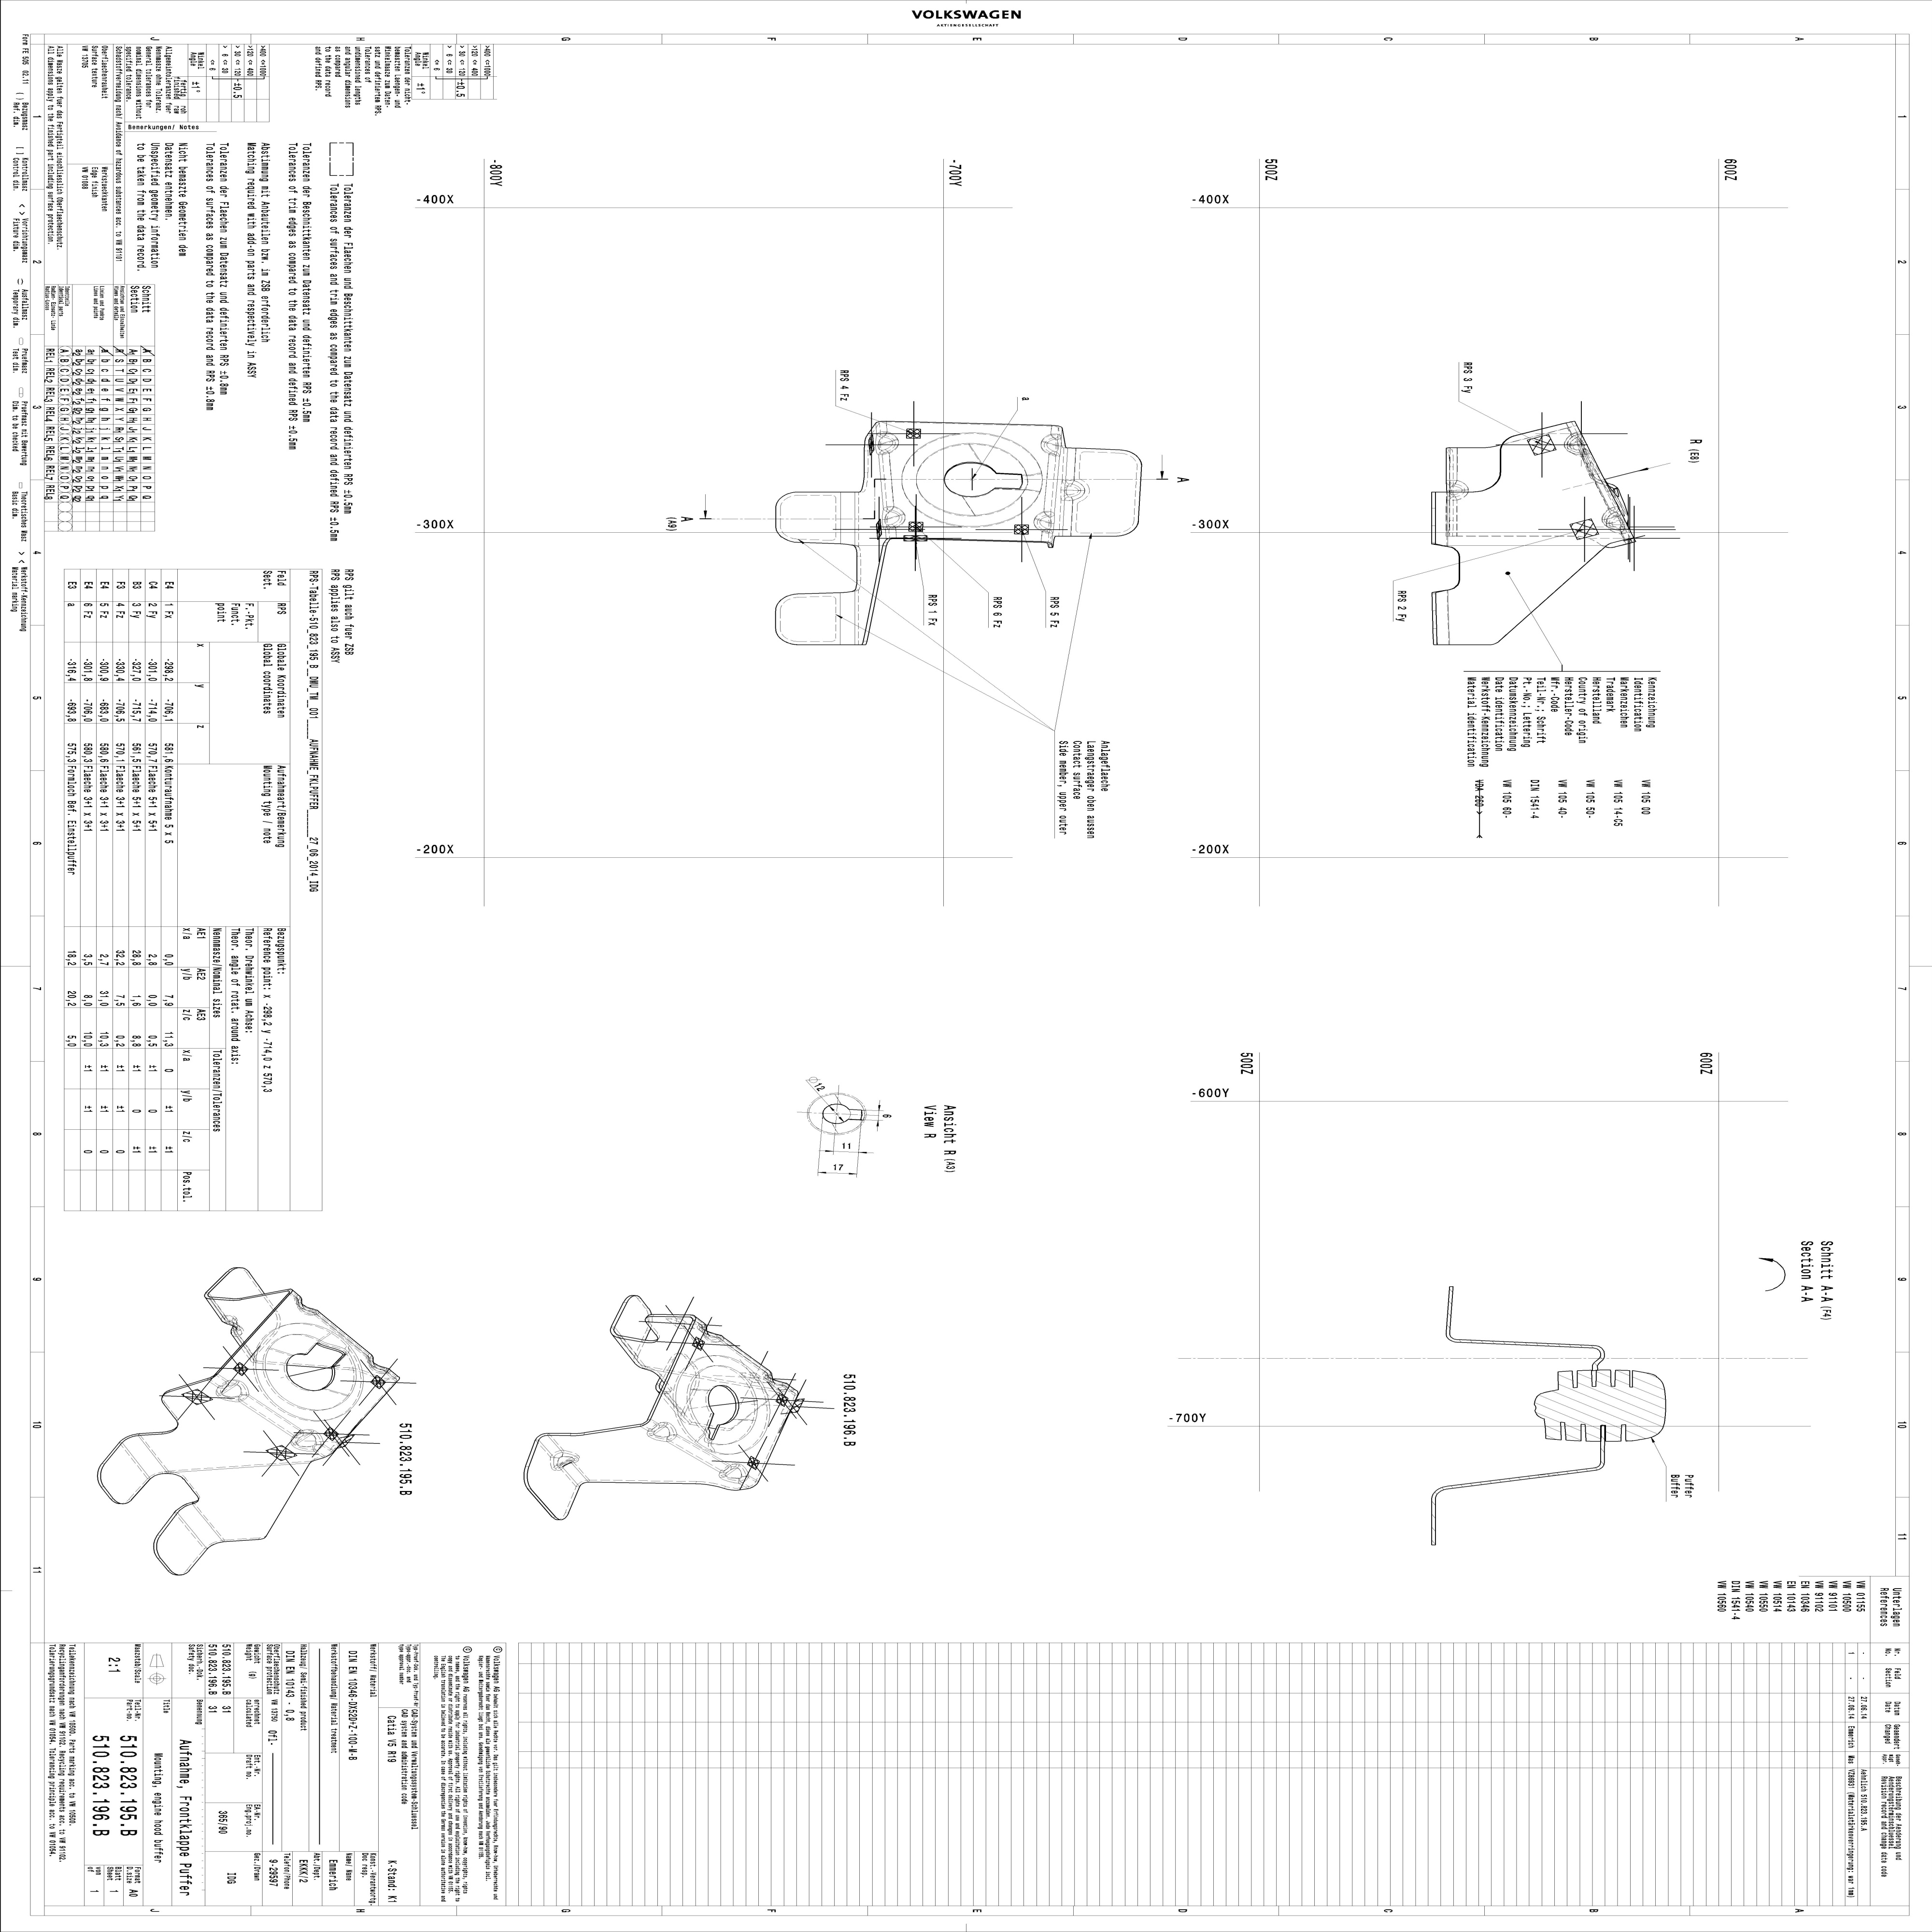BendingEdge: (173, 1499, 225, 1553), (117, 1428, 168, 1483), (672, 1433, 727, 1474), (607, 1322, 646, 1366), (1582, 453, 1614, 506), (725, 1339, 766, 1371), (839, 589, 858, 649), (839, 490, 858, 547), (878, 456, 899, 508), (536, 1431, 564, 1460), (566, 1465, 591, 1491), (1047, 458, 1060, 502), (780, 1380, 803, 1403), (1060, 501, 1074, 533), (1445, 444, 1460, 476), (639, 1415, 660, 1437), (686, 1309, 708, 1329), (1067, 446, 1077, 479), (1430, 593, 1437, 642), (1564, 418, 1582, 437), (1447, 506, 1456, 540), (1619, 529, 1637, 545), (1442, 1329, 1458, 1345), (1431, 1486, 1447, 1502), (1592, 1341, 1606, 1359), (1591, 1460, 1608, 1474), (1433, 494, 1437, 545), (1047, 423, 1063, 433), (743, 1476, 755, 1488), (874, 421, 888, 430), (886, 531, 899, 536)
Notch: (111, 1454, 205, 1550), (771, 536, 860, 598), (1424, 545, 1465, 593)
Reinforcement: (1559, 428, 1594, 462), (547, 1444, 582, 1477), (290, 1290, 324, 1323), (646, 1417, 679, 1449), (218, 1309, 248, 1343), (718, 1458, 748, 1490), (1599, 504, 1629, 534), (216, 1378, 251, 1403), (290, 1428, 324, 1453), (364, 1350, 391, 1378), (1039, 433, 1069, 456), (874, 430, 901, 455), (878, 508, 908, 529), (697, 1323, 727, 1343), (1063, 479, 1090, 501), (1035, 508, 1054, 536), (1447, 478, 1468, 502), (759, 1369, 782, 1385)
